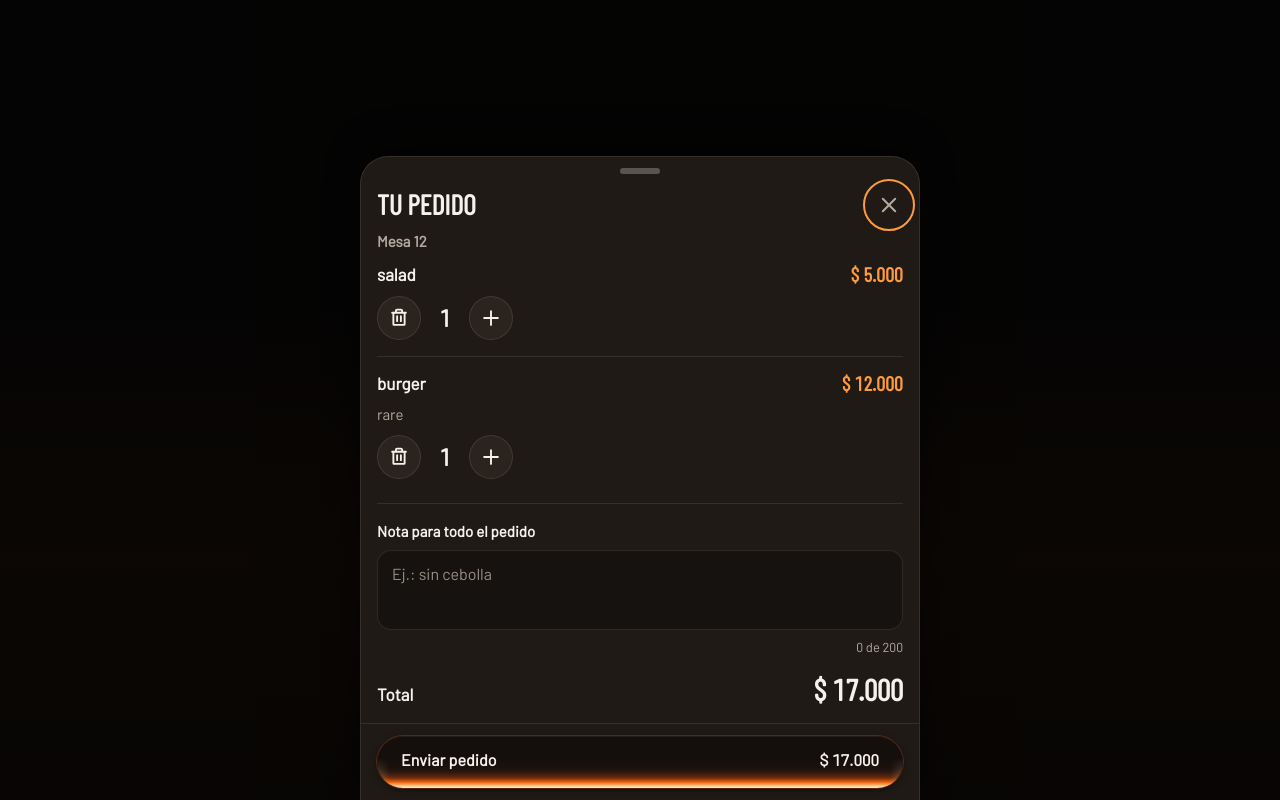
Test: CartSheet: resumen y envío del pedido (RF2, RF20-RF22, RF24-RF27, RF44; plan §5.4) › el restaurante rechaza el pedido (RF27, RF46) › un plato agotado que la carta local todavía no sabe: la línea se marca igual con lo que dijo el restaurante
Step 1. Click the button "Enviar pedido $ 17.000" → (449, 760), box [377,736,903,788]
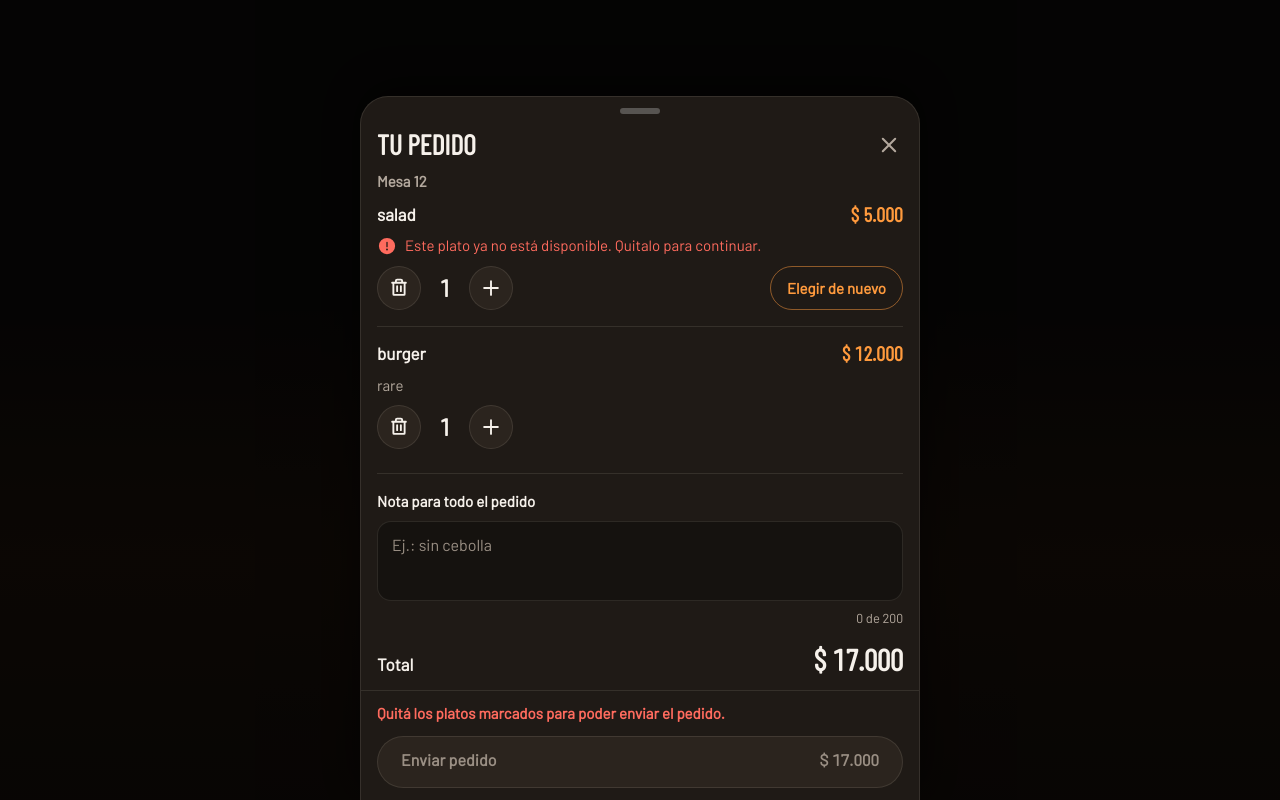
Expected: the list item "burger $ 12.000 rare 1" does not show "ya no está disponible", [377,327,903,465]
Now the list item that starts with "salad" shows "Este plato ya no está disponible. Quitalo para continuar.", box [405,236,762,254]
